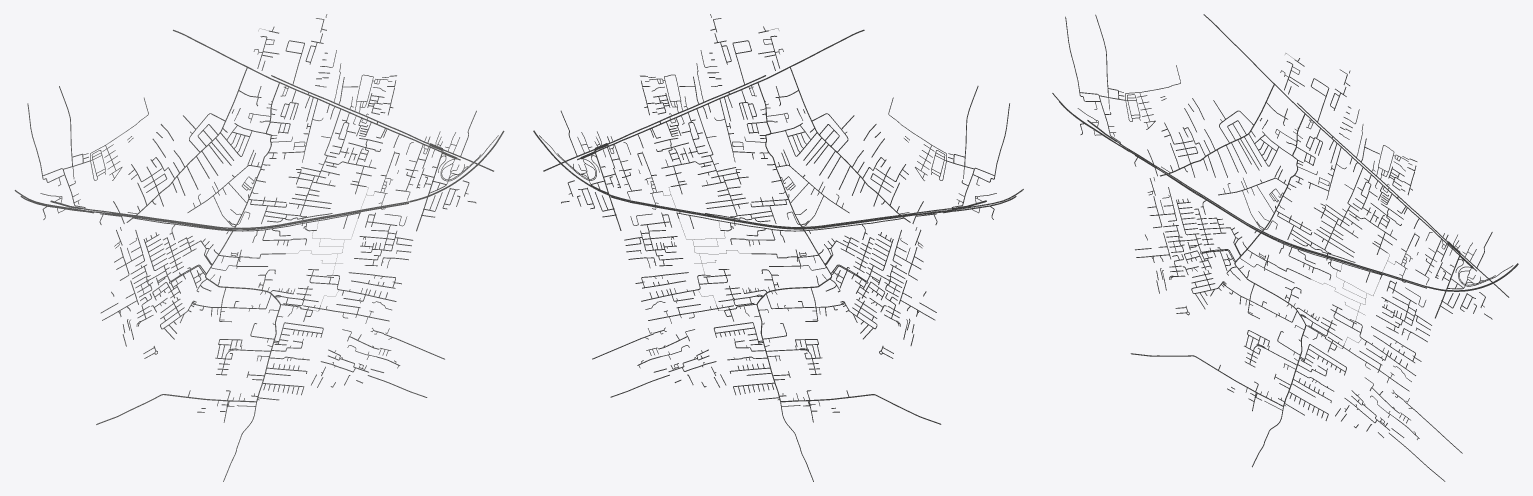
Rendered from roads_2_3.obj.
3 views of the same model, side by side, from view 1: azimuth 30°, elevation 25°; view 2: azimuth 150°, elevation 25°; view 3: azimuth 330°, elevation 25° (orthographic). The views are drawn at different scales.
Bounding box in the file's own units: 3446 × 3120 × 12.34.
Materials: 5 (5 with a texture image).
